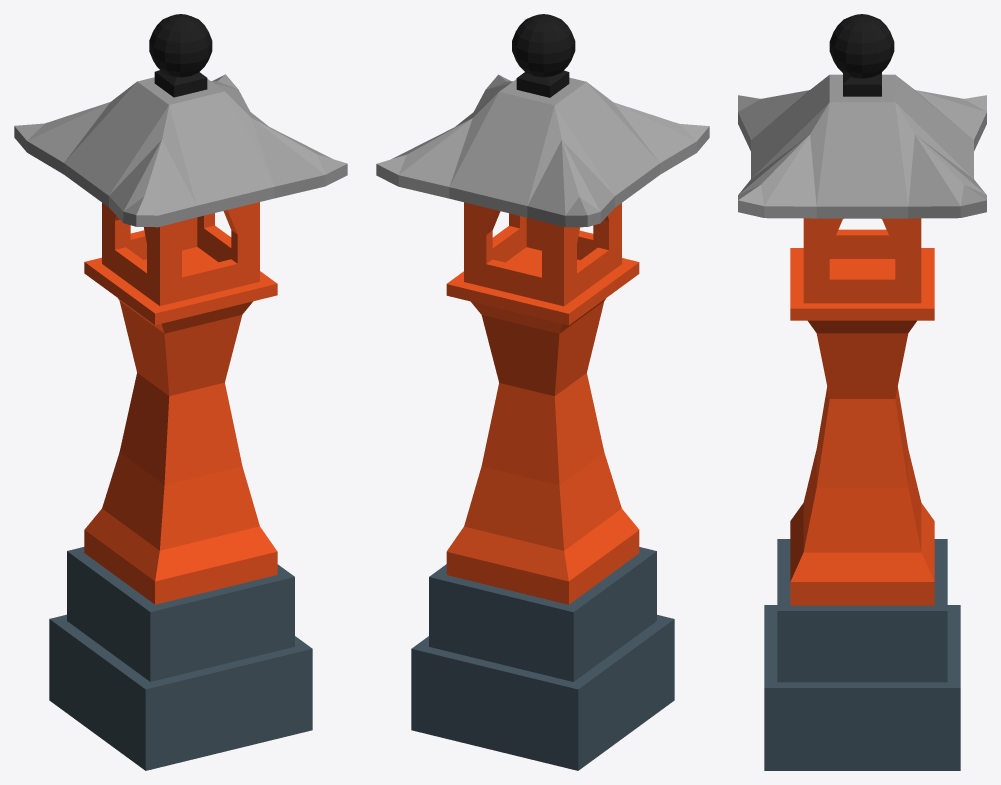
File: other-toro-290.glb
3 renders of one model, left to right at view 1: azimuth 30°, elevation 25°; view 2: azimuth 150°, elevation 25°; view 3: azimuth 270°, elevation 25°, orthographic.
Parts seen in each view (by area): view 1: group1628271419, group1810139976, group854287869, group940694488, group1038545435, group958874919, group2090183098, group508331033, group1847582311, group1875892606, group211259897, group634687404 (+5 smaller); view 2: group1628271419, group1810139976, group854287869, group1038545435, group1491330308, group940694488, group2090183098, group508331033, group927667880, group1793119183, group267706938, group1606106417 (+4 smaller); view 3: group1628271419, group1810139976, group854287869, group958874919, group1491330308, group940694488, group2090183098, group508331033, group250282001, group1038545435, group2090733201, group408571608 (+3 smaller).
Boxes of the visible parts, <box> form: group1628271419: <box>84,298,277,604</box>; group1810139976: <box>49,614,312,770</box>; group854287869: <box>67,547,294,681</box>; group940694488: <box>102,77,263,227</box>; group1038545435: <box>14,81,168,202</box>; group958874919: <box>225,92,347,200</box>; group2090183098: <box>84,247,277,325</box>; group508331033: <box>149,14,212,77</box>; group1847582311: <box>144,224,170,305</box>; group1875892606: <box>160,218,191,305</box>; group211259897: <box>182,259,237,300</box>; group634687404: <box>223,205,248,286</box>; group1628271419: <box>446,298,639,604</box>; group1810139976: <box>411,615,674,770</box>; group854287869: <box>429,547,656,681</box>; group1038545435: <box>516,82,653,227</box>; group1491330308: <box>376,92,554,214</box>; group940694488: <box>499,77,709,178</box>; group2090183098: <box>446,247,639,325</box>; group508331033: <box>512,14,575,77</box>; group927667880: <box>464,202,500,287</box>; group1793119183: <box>486,259,541,300</box>; group267706938: <box>532,219,570,305</box>; group1606106417: <box>553,224,579,306</box>; group1628271419: <box>790,320,934,605</box>; group1810139976: <box>764,605,960,770</box>; group854287869: <box>777,539,947,682</box>; group958874919: <box>738,102,895,218</box>; group1491330308: <box>895,75,986,218</box>; group940694488: <box>738,74,895,172</box>; group2090183098: <box>790,248,934,320</box>; group508331033: <box>829,14,894,78</box>; group250282001: <box>881,218,921,303</box>; group1038545435: <box>897,76,986,150</box>; group2090733201: <box>829,274,895,303</box>; group408571608: <box>829,229,895,258</box>.
Bounding box in the file's own units: 0.19 × 0.6 × 0.19.
